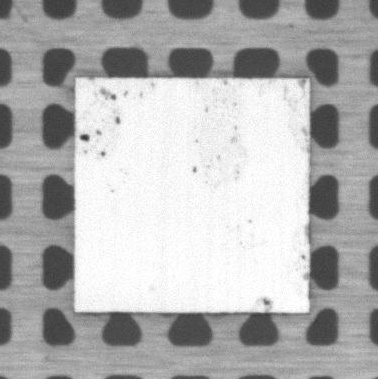DIE_INK: (77, 79, 308, 306)
